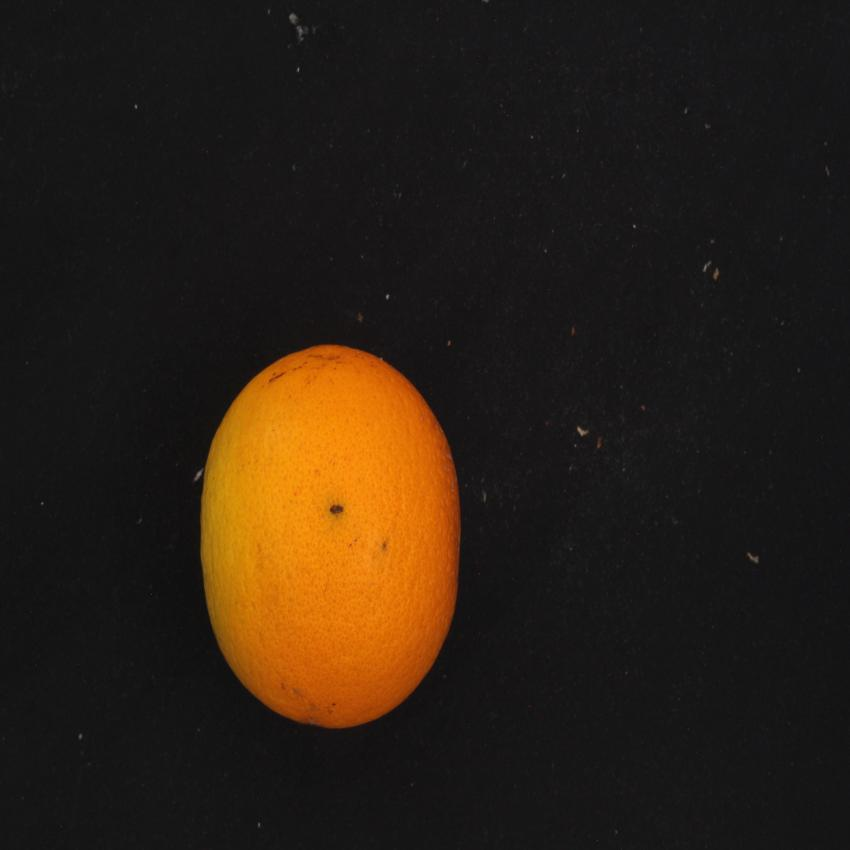Buen estado: (184, 332, 475, 742)
